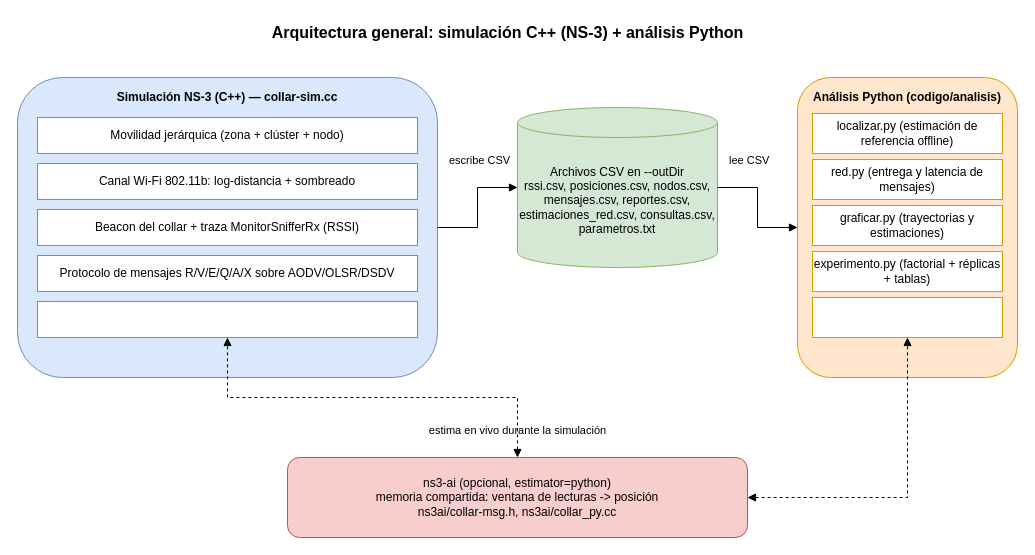
This 1035x555 diagram has some shape labels left out. The shapes that lost their labels are listed below. From the top down, each one's centre as x and y in pixels, then its label:
(x=227, y=319): Estimación en cabezas de zona (estimador.h) — estimator=cpp
(x=907, y=317): ns3ai_estimador.py (estimador en vivo)
